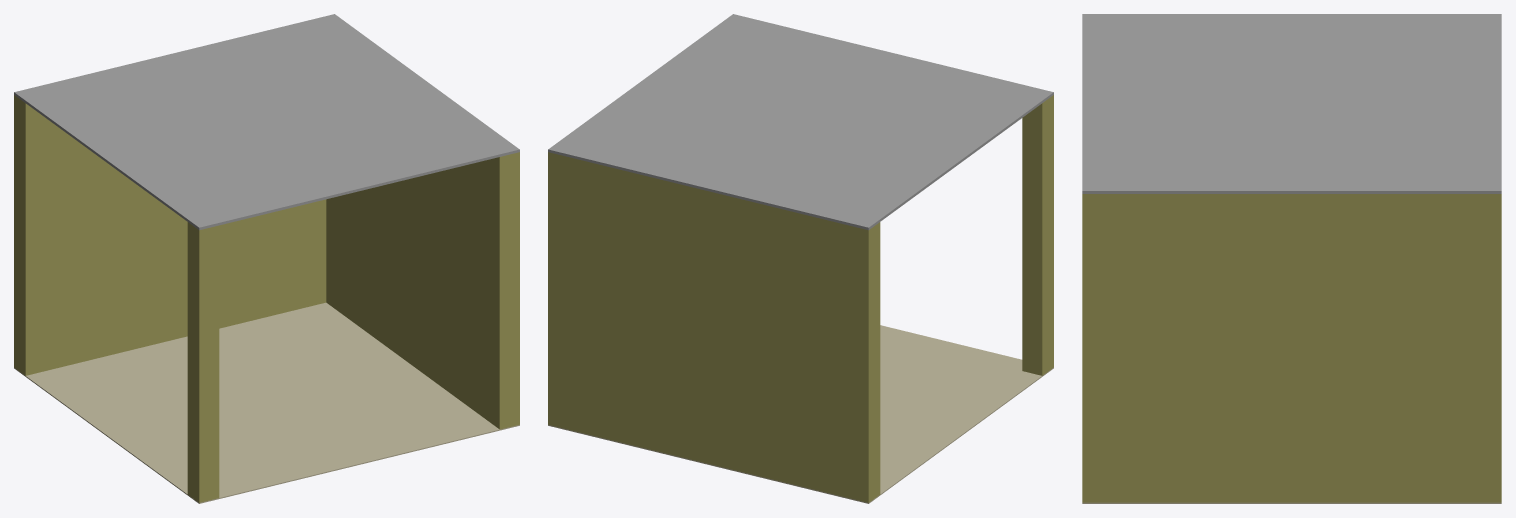
The model's file is tile5.gltf.
The picture shows the model from 3 angles, left to right: view 1: azimuth 30°, elevation 25°; view 2: azimuth 150°, elevation 25°; view 3: azimuth 270°, elevation 25°; orthographic projection. The views are drawn at different scales.
Parts seen in each view (by area): view 1: cube (×5); view 2: cube (×5); view 3: cube (×3).
Part boxes in pixels (bbox=[...]): cube (×5): bbox=[14, 14, 519, 503]; cube (×5): bbox=[548, 14, 1053, 503]; cube (×3): bbox=[1082, 14, 1501, 503].
Bounding box in the file's own units: 1 × 0.8234 × 1.
1 material, 1 textured.
